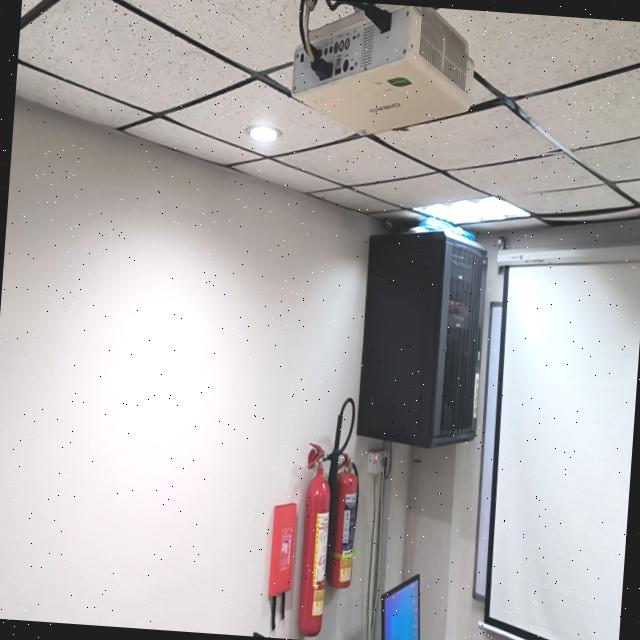Fire Extinguisher: (297, 443, 330, 635), (328, 468, 358, 588)
Light: (419, 196, 529, 224), (249, 125, 278, 142)
Monitor: (381, 574, 420, 640)
Projector: (291, 2, 474, 132)
